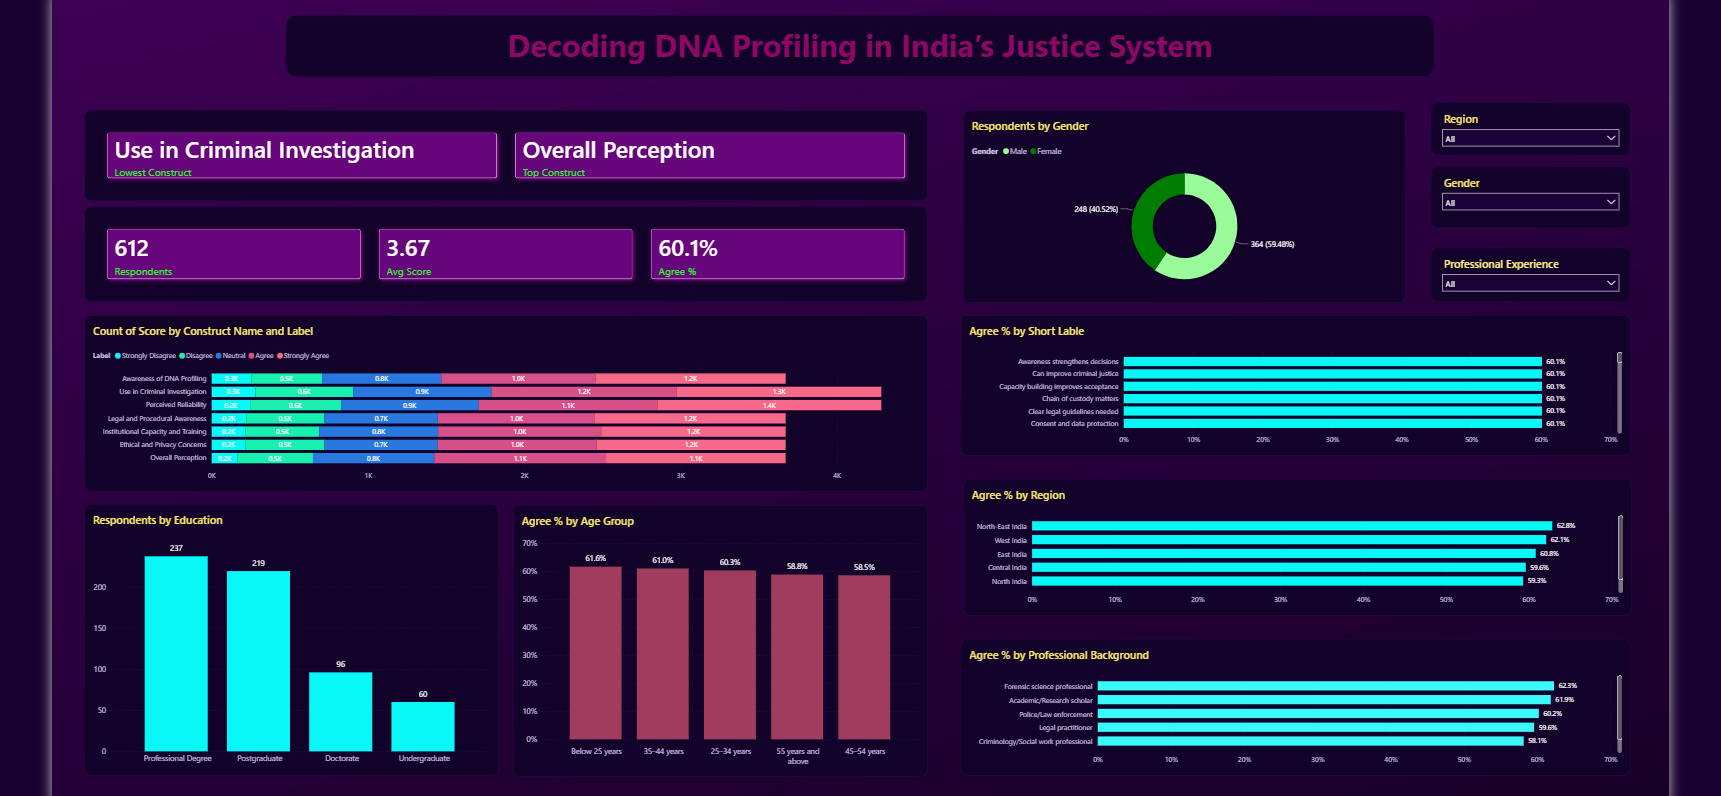

This screenshot's page, from the dashboard's own definition file:
{"tool":"powerbi","page":{"name":"Page 1","canvas":[2800,1400],"ordinal":0},"visuals":[{"type":"textbox","box":[404.4,35.6,1989.1,106.8],"z":0},{"type":"cardVisual","fields":{"Data":["_Measures.Respondents","_Measures.Avg Score","_Measures.Agree %"]},"box":[56,366.3,1460,165.3],"z":1000},{"type":"barChart","fields":{"Category":["Dim_Construct.Construct Name"],"Y":["CountNonNull(Survey_Long.Score)"],"Series":["Dim_Likert.Label"]},"box":[56,554.5,1460,305.2],"z":2000},{"type":"clusteredBarChart","fields":{"Category":["Survey_Wide.Professional Background"],"Y":["_Measures.Agree %"]},"box":[1574.5,1114.1,1159.9,236.6],"z":3000},{"type":"slicer","fields":{"Values":["Survey_Wide.Region"]},"box":[2388.5,185.7,345.9,91.6],"z":4000},{"type":"slicer","fields":{"Values":["Survey_Wide.Professional Experience"]},"box":[2388.5,437.5,345.9,94.1],"z":5000},{"type":"slicer","fields":{"Values":["Survey_Wide.Gender"]},"box":[2388.5,297.6,345.9,106.8],"z":6000},{"type":"clusteredBarChart","fields":{"Category":["Dim_Items.Column4"],"Y":["_Measures.Agree %"]},"box":[1574.5,554.5,1159.9,244.2],"z":7000},{"type":"clusteredColumnChart","fields":{"Category":["Survey_Wide.Age Group"],"Y":["_Measures.Agree %"]},"box":[798.7,882.6,717.3,470.6],"z":8000},{"type":"clusteredBarChart","fields":{"Category":["Survey_Wide.Region"],"Y":["_Measures.Agree %"]},"box":[1577,836.8,1157.3,236.6],"z":9000},{"type":"donutChart","fields":{"Category":["Survey_Wide.Gender"],"Y":["_Measures.Respondents"]},"box":[1577,198.4,765.6,333.2],"z":10000},{"type":"clusteredColumnChart","fields":{"Category":["Survey_Wide.Education"],"Y":["_Measures.Respondents"]},"box":[56,880.1,717.3,470.6],"z":11000},{"type":"cardVisual","fields":{"Data":["_Measures.Lowest Construct","_Measures.Top Construct"]},"box":[56,198.4,1460,157.7],"z":12000}]}

Visuals, with their boxes on the page's 2800x1400 design canvas (x1, y1, x2, y2). These are canvas units, not pixel positions in the 1721x796 screenshot, which may show the page scaled, cropped or inside an application window:
textbox: 404 36 2394 142
cardVisual - _Measures.Respondents x _Measures.Avg Score: 56 366 1516 532
barChart - Dim_Construct.Construct Name x CountNonNull(Survey_Long.Score): 56 554 1516 860
clusteredBarChart - Survey_Wide.Professional Background x _Measures.Agree %: 1574 1114 2734 1351
slicer - Survey_Wide.Region: 2388 186 2734 277
slicer - Survey_Wide.Professional Experience: 2388 438 2734 532
slicer - Survey_Wide.Gender: 2388 298 2734 404
clusteredBarChart - Dim_Items.Column4 x _Measures.Agree %: 1574 554 2734 799
clusteredColumnChart - Survey_Wide.Age Group x _Measures.Agree %: 799 883 1516 1353
clusteredBarChart - Survey_Wide.Region x _Measures.Agree %: 1577 837 2734 1073
donutChart - Survey_Wide.Gender x _Measures.Respondents: 1577 198 2343 532
clusteredColumnChart - Survey_Wide.Education x _Measures.Respondents: 56 880 773 1351
cardVisual - _Measures.Lowest Construct x _Measures.Top Construct: 56 198 1516 356
